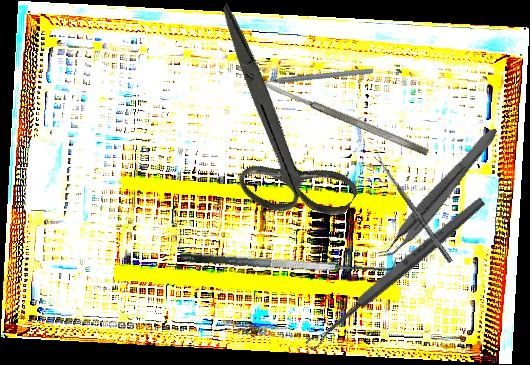Chopper: (250, 35, 374, 124)
Iris Scissors: (143, 2, 406, 247)
Spatula Surgical: (257, 76, 430, 158), (179, 233, 397, 283)
Surgical Spoon: (303, 194, 488, 353), (373, 152, 454, 264)
Tissue Forceps: (374, 119, 502, 268)
